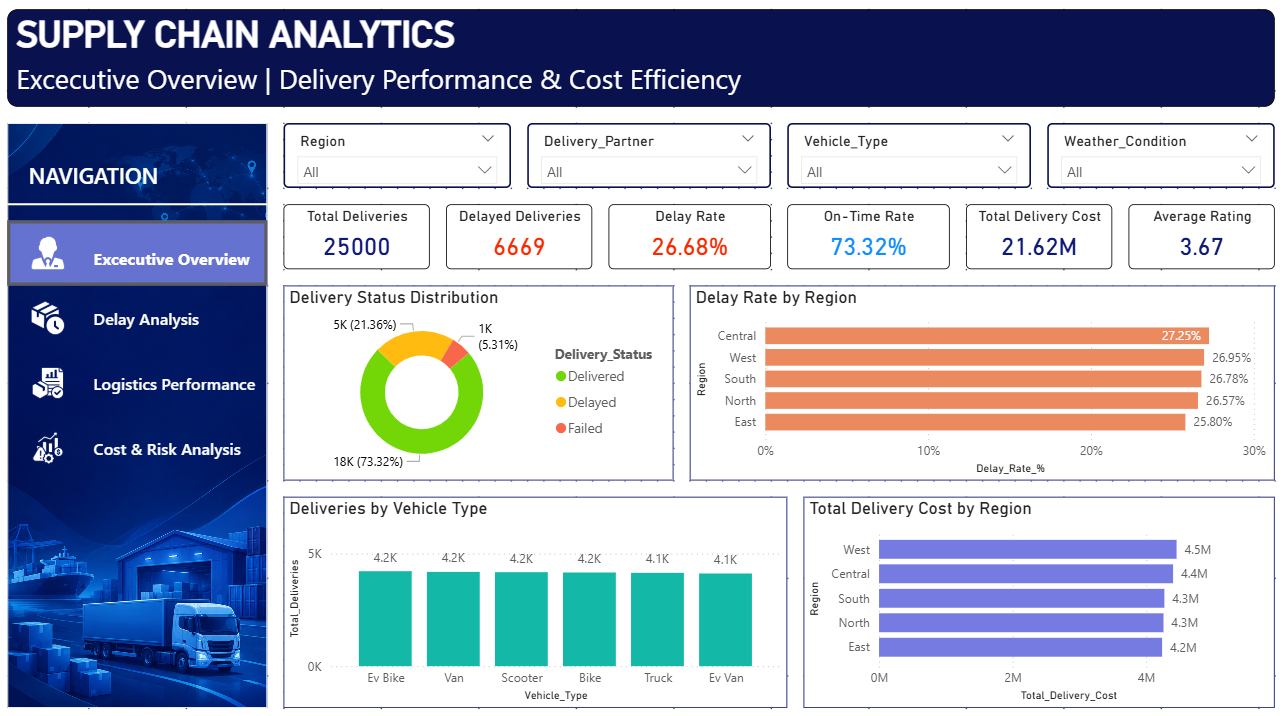

This screenshot's page, from the dashboard's own definition file:
{"tool":"powerbi","page":{"name":"01. Excecutive Overview","canvas":[1280,720],"ordinal":0},"visuals":[{"type":"textbox","title":"SUPPLY CHAIN ANALYTICS","box":[16,16,1248,96],"z":0},{"type":"actionButton","title":"Button Excecutive","box":[16,224,256,64],"z":0,"group":"g2"},{"type":"actionButton","title":"Button Cost & Risk","box":[0,288,256,48],"z":0,"group":"g1"},{"type":"actionButton","title":"Button Delay","box":[16,288,256,48],"z":0,"group":"g3"},{"type":"actionButton","title":"Button Logistics","box":[16,352,256,48],"z":0,"group":"g4"},{"type":"actionButton","title":"Button Cost & Risk","box":[16,416,256,48],"z":0,"group":"g6"},{"type":"image","box":[32,240,48,32],"z":1000,"group":"g2"},{"type":"image","box":[32,240,48,32],"z":1000,"group":"g5"},{"type":"actionButton","title":"Button Excecutive","box":[16,272,256,48],"z":1000},{"type":"image","box":[16,304,48,32],"z":1000,"group":"g1"},{"type":"image","box":[32,304,48,32],"z":1000,"group":"g3"},{"type":"image","box":[32,368,48,32],"z":1000,"group":"g4"},{"type":"image","box":[32,432,48,32],"z":1000,"group":"g6"},{"type":"slicer","title":"Slicer-Region","fields":{"Values":["Cleaned_Delivery_Data.Region"]},"box":[288,128,224,64],"z":2000},{"type":"textbox","box":[96,245.3,176,42.7],"z":2000,"group":"g2"},{"type":"textbox","box":[96,245.3,176,42.7],"z":2000,"group":"g5"},{"type":"textbox","box":[80,304,176,32],"z":2000,"group":"g1"},{"type":"textbox","box":[96,304,176,32],"z":2000,"group":"g3"},{"type":"textbox","box":[96,368,176,32],"z":2000,"group":"g4"},{"type":"textbox","box":[96,432,176,32],"z":2000,"group":"g6"},{"type":"slicer","title":"Slicer-Delivery Partner","fields":{"Values":["Cleaned_Delivery_Data.Delivery_Partner"]},"box":[528,128,240,64],"z":3000},{"type":"slicer","title":"Slicer-Vehicle Type","fields":{"Values":["Cleaned_Delivery_Data.Vehicle_Type"]},"box":[784,128,240,64],"z":4000},{"type":"slicer","title":"Slicer-Weather Condition","fields":{"Values":["Cleaned_Delivery_Data.Weather_Condition"]},"box":[1040,128,224,64],"z":5000},{"type":"card","title":"Total Deliveries","fields":{"Values":["Measure.Total_Deliveries"]},"box":[288,208,144,64],"z":6000},{"type":"card","title":"Delayed Deliveries","fields":{"Values":["Measure.Delayed_Deliveries"]},"box":[448,208,144,64],"z":7000},{"type":"card","title":"Delay Rate","fields":{"Values":["Measure.Delay_Rate_%"]},"box":[608,208,160,64],"z":8000},{"type":"card","title":"On-Time Rate ","fields":{"Values":["Measure.On-Time_Rate_%"]},"box":[784,208,160,64],"z":9000},{"type":"card","title":"Total Delivery Cost","fields":{"Values":["Measure.Total_Delivery_Cost"]},"box":[960,208,144,64],"z":10000},{"type":"card","title":"Average Rating","fields":{"Values":["Measure.Average_Rating"]},"box":[1120,208,144,64],"z":11000},{"type":"donutChart","title":"Delivery Status Distribution","fields":{"Y":["Measure.Total_Deliveries"],"Category":["Cleaned_Delivery_Data.Delivery_Status"]},"box":[288,288,384,192],"z":12000},{"type":"clusteredBarChart","title":"Delay Rate by Region","fields":{"Category":["Cleaned_Delivery_Data.Region"],"Y":["Measure.Delay_Rate_%"]},"box":[688,288,576,192],"z":13000},{"type":"clusteredColumnChart","title":"Deliveries by Vehicle Type","fields":{"Category":["Cleaned_Delivery_Data.Vehicle_Type"],"Y":["Measure.Total_Deliveries"]},"box":[288,496,496,208],"z":14000},{"type":"clusteredBarChart","title":"Total Delivery Cost by Region","fields":{"Category":["Cleaned_Delivery_Data.Region"],"Y":["Measure.Total_Delivery_Cost"]},"box":[800,496,464,208],"z":15000},{"type":"image","box":[16,128,256,576],"z":16000,"group":"g2"},{"type":"group","id":"g1","title":"Cost & Risk Group","box":[0,288,256,48],"z":16000},{"type":"group","id":"g2","title":"Navigation Bar","box":[16,128,256,576],"z":17000},{"type":"textbox","box":[32,160,144,48],"z":17000,"group":"g2"},{"type":"shape","box":[16,192,256,32],"z":18000,"group":"g2"},{"type":"group","id":"g3","title":"Delay Group","box":[16,288,256,48],"z":20000,"group":"g2"},{"type":"group","id":"g4","title":"Logistics Group","box":[16,352,256,48],"z":21000,"group":"g2"},{"type":"group","id":"g5","title":"Excecutive Group","box":[16,224,256,64],"z":22000},{"type":"group","id":"g6","title":"Cost & Risk Group","box":[16,416,256,48],"z":22000,"group":"g2"},{"type":"actionButton","title":"Button Excecutive","box":[16,224,256,64],"z":22001,"group":"g5"}]}

Visuals, with their boxes in screenshot pixels (x1, y1, x2, y2), scaled from the page's 1280x720 canvas onto the 1285x716 screenshot:
"SUPPLY CHAIN ANALYTICS" textbox: [16,16,1269,111]
"Button Excecutive" actionButton: [16,223,273,286]
"Button Cost & Risk" actionButton: [0,286,257,334]
"Button Delay" actionButton: [16,286,273,334]
"Button Logistics" actionButton: [16,350,273,398]
"Button Cost & Risk" actionButton: [16,414,273,461]
image: [32,239,80,270]
image: [32,239,80,270]
"Button Excecutive" actionButton: [16,270,273,318]
image: [16,302,64,334]
image: [32,302,80,334]
image: [32,366,80,398]
image: [32,430,80,461]
"Slicer-Region" slicer: [289,127,514,191]
textbox: [96,244,273,286]
textbox: [96,244,273,286]
textbox: [80,302,257,334]
textbox: [96,302,273,334]
textbox: [96,366,273,398]
textbox: [96,430,273,461]
"Slicer-Delivery Partner" slicer: [530,127,771,191]
"Slicer-Vehicle Type" slicer: [787,127,1028,191]
"Slicer-Weather Condition" slicer: [1044,127,1269,191]
"Total Deliveries" card: [289,207,434,270]
"Delayed Deliveries" card: [450,207,594,270]
"Delay Rate" card: [610,207,771,270]
"On-Time Rate " card: [787,207,948,270]
"Total Delivery Cost" card: [964,207,1108,270]
"Average Rating" card: [1124,207,1269,270]
"Delivery Status Distribution" donutChart: [289,286,675,477]
"Delay Rate by Region" clusteredBarChart: [691,286,1269,477]
"Deliveries by Vehicle Type" clusteredColumnChart: [289,493,787,700]
"Total Delivery Cost by Region" clusteredBarChart: [803,493,1269,700]
image: [16,127,273,700]
"Cost & Risk Group" group: [0,286,257,334]
"Navigation Bar" group: [16,127,273,700]
textbox: [32,159,177,207]
shape: [16,191,273,223]
"Delay Group" group: [16,286,273,334]
"Logistics Group" group: [16,350,273,398]
"Excecutive Group" group: [16,223,273,286]
"Cost & Risk Group" group: [16,414,273,461]
"Button Excecutive" actionButton: [16,223,273,286]
